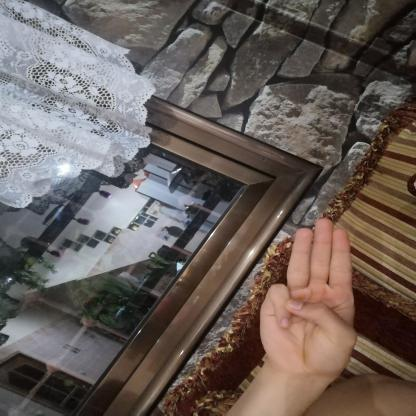THA: (242, 207, 364, 383)
